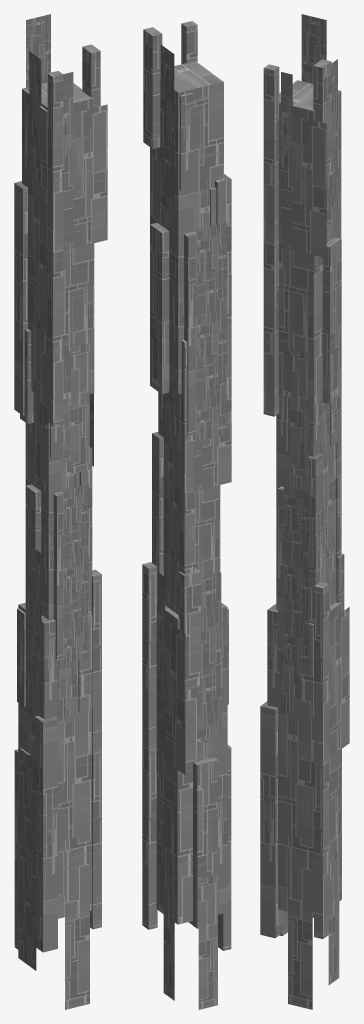
File: SM_architecture_module_07.glb
3 renders of one model, left to right at view 1: azimuth 30°, elevation 25°; view 2: azimuth 210°, elevation 25°; view 3: azimuth 330°, elevation 25°, orthographic. The views are drawn at different scales.
Parts seen in each view (by area): view 1: SM_architecture_module_07; view 2: SM_architecture_module_07; view 3: SM_architecture_module_07.
Boxes of the visible parts, bbox=[...] form: SM_architecture_module_07: bbox=[14, 14, 107, 1009]; SM_architecture_module_07: bbox=[142, 21, 231, 1009]; SM_architecture_module_07: bbox=[260, 14, 349, 1009].
Size of the model in its own units: 2.02 by 27.36 by 2.03.
Materials: 2 (2 with a texture image).
